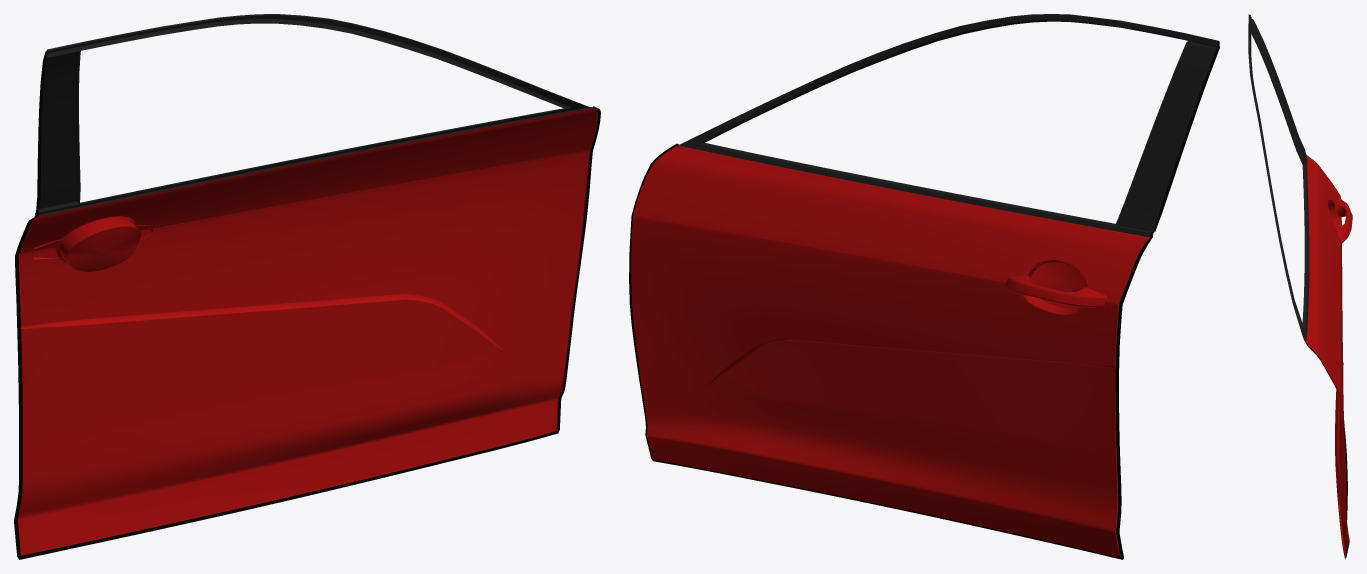
The picture shows the model from 3 angles, left to right: view 1: azimuth 30°, elevation 25°; view 2: azimuth 150°, elevation 25°; view 3: azimuth 270°, elevation 25°; orthographic projection. The views are drawn at different scales.
Visible parts, largest first — view 1: Y175_18_261B_L_1_DaS_Y175_18_261B_L, Y175_18_261B_L_Y175_18_261B_L_2_D, Y175_18_261B_L_1_DaS_Y175_18_261B_L_E, Y175_18_261B_L_Y175_18_261B_L_3_D; view 2: Y175_18_261B_L_1_DaS_Y175_18_261B_L, Y175_18_261B_L_Y175_18_261B_L_2_D, Y175_18_261B_L_1_DaS_Y175_18_261B_L_E, Y175_18_261B_L_Y175_18_261B_L_3_D; view 3: Y175_18_261B_L_1_DaS_Y175_18_261B_L, Y175_18_261B_L_Y175_18_261B_L_2_D, Y175_18_261B_L_1_DaS_Y175_18_261B_L_E, Y175_18_261B_L_Y175_18_261B_L_3_D.
Boxes of the visible parts, box(x1,y1,x2,y2) form: Y175_18_261B_L_1_DaS_Y175_18_261B_L: box(18, 108, 596, 554); Y175_18_261B_L_Y175_18_261B_L_2_D: box(37, 14, 591, 216); Y175_18_261B_L_1_DaS_Y175_18_261B_L_E: box(18, 107, 597, 555); Y175_18_261B_L_Y175_18_261B_L_3_D: box(14, 51, 600, 559); Y175_18_261B_L_1_DaS_Y175_18_261B_L: box(631, 146, 1147, 557); Y175_18_261B_L_Y175_18_261B_L_2_D: box(679, 14, 1217, 237); Y175_18_261B_L_1_DaS_Y175_18_261B_L_E: box(633, 145, 1149, 557); Y175_18_261B_L_Y175_18_261B_L_3_D: box(629, 40, 1219, 559); Y175_18_261B_L_1_DaS_Y175_18_261B_L: box(1307, 155, 1352, 553); Y175_18_261B_L_Y175_18_261B_L_2_D: box(1248, 14, 1309, 341); Y175_18_261B_L_1_DaS_Y175_18_261B_L_E: box(1305, 155, 1350, 557); Y175_18_261B_L_Y175_18_261B_L_3_D: box(1248, 14, 1348, 559).
Size of the model in its own units: 130 by 117 by 30.21.
